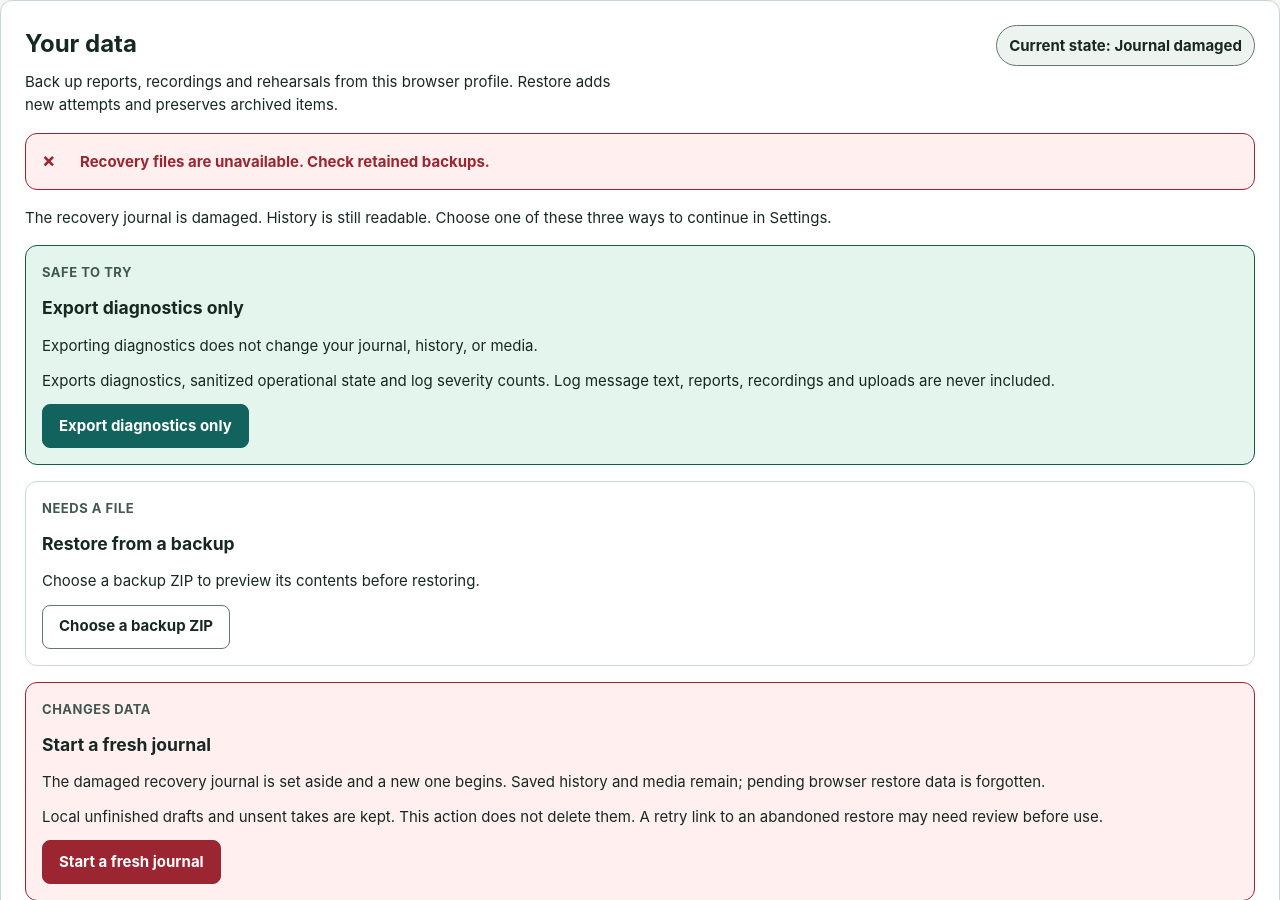
Test case: journal recovery visibility › announces a failed fresh start inside the dialog and permits retry
Click the button "Start a fresh journal".
click(131, 862)  # box [42, 840, 221, 884]
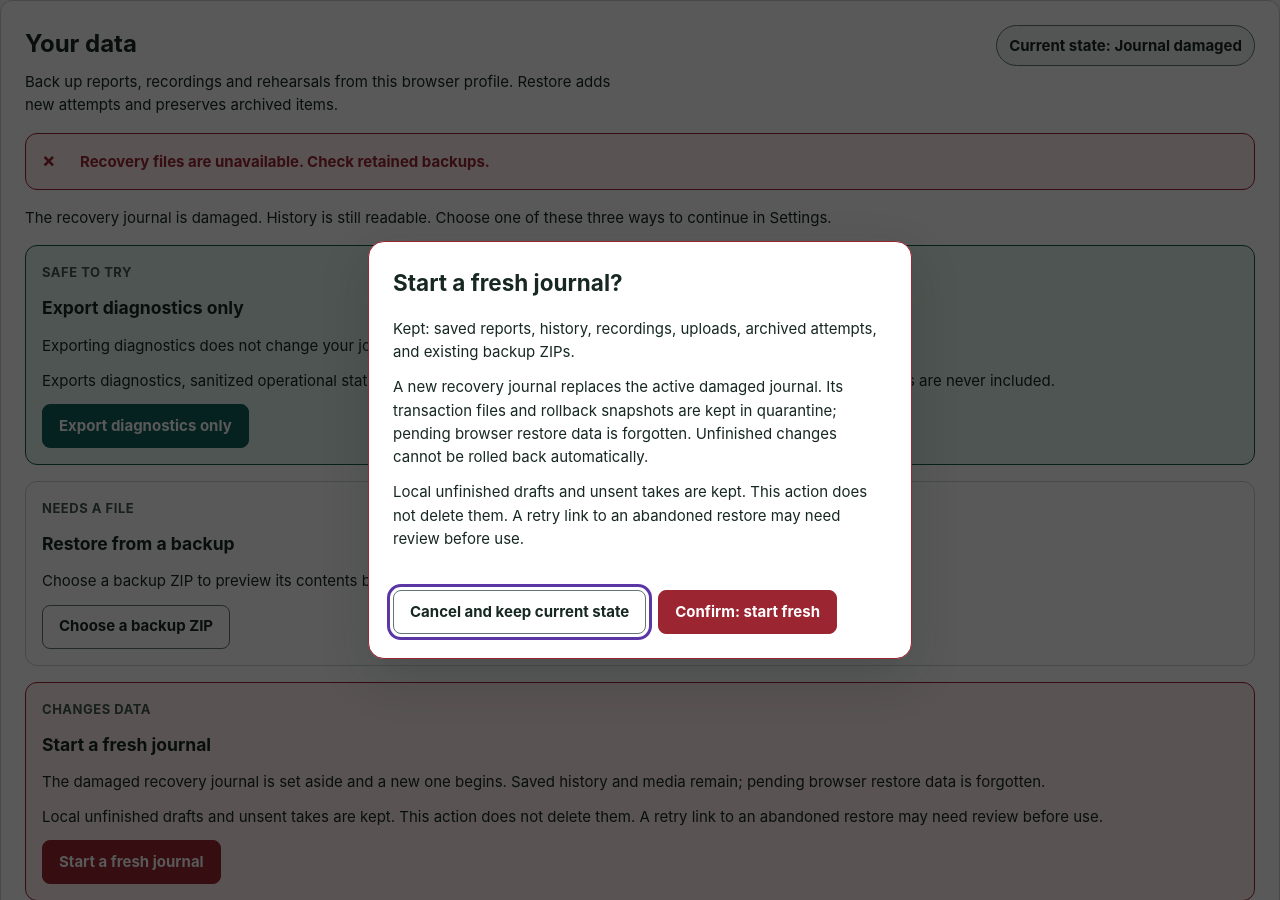
Click the button "Confirm: start fresh".
click(748, 612)  # box [658, 590, 837, 634]
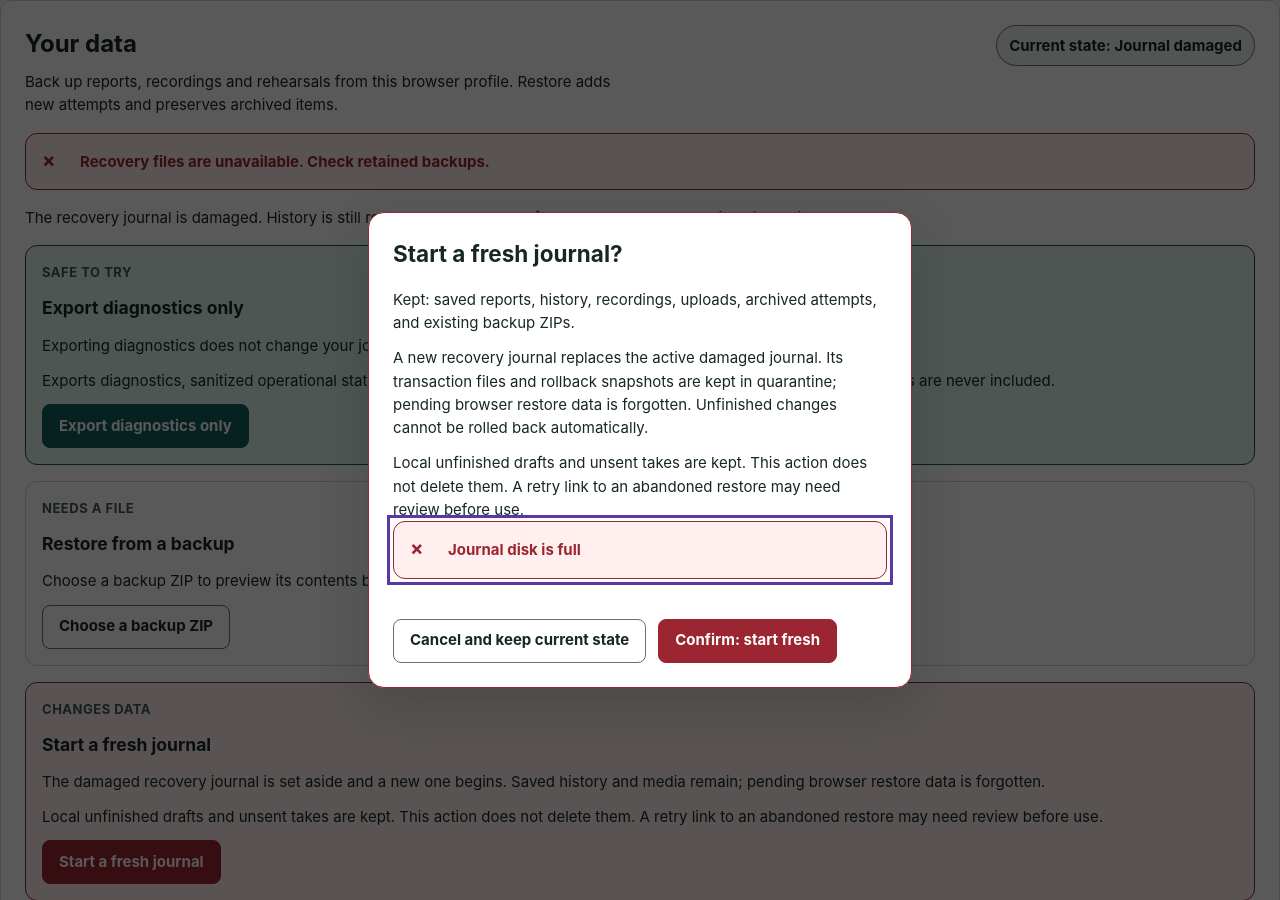
Expected: the button "Cancel and keep current state" is enabled, [393, 619, 646, 663]
Expected: the message "Journal disk is full" is shown, [393, 521, 887, 579]
Click the button "Confirm: start fresh".
click(748, 641)  # box [658, 619, 837, 663]
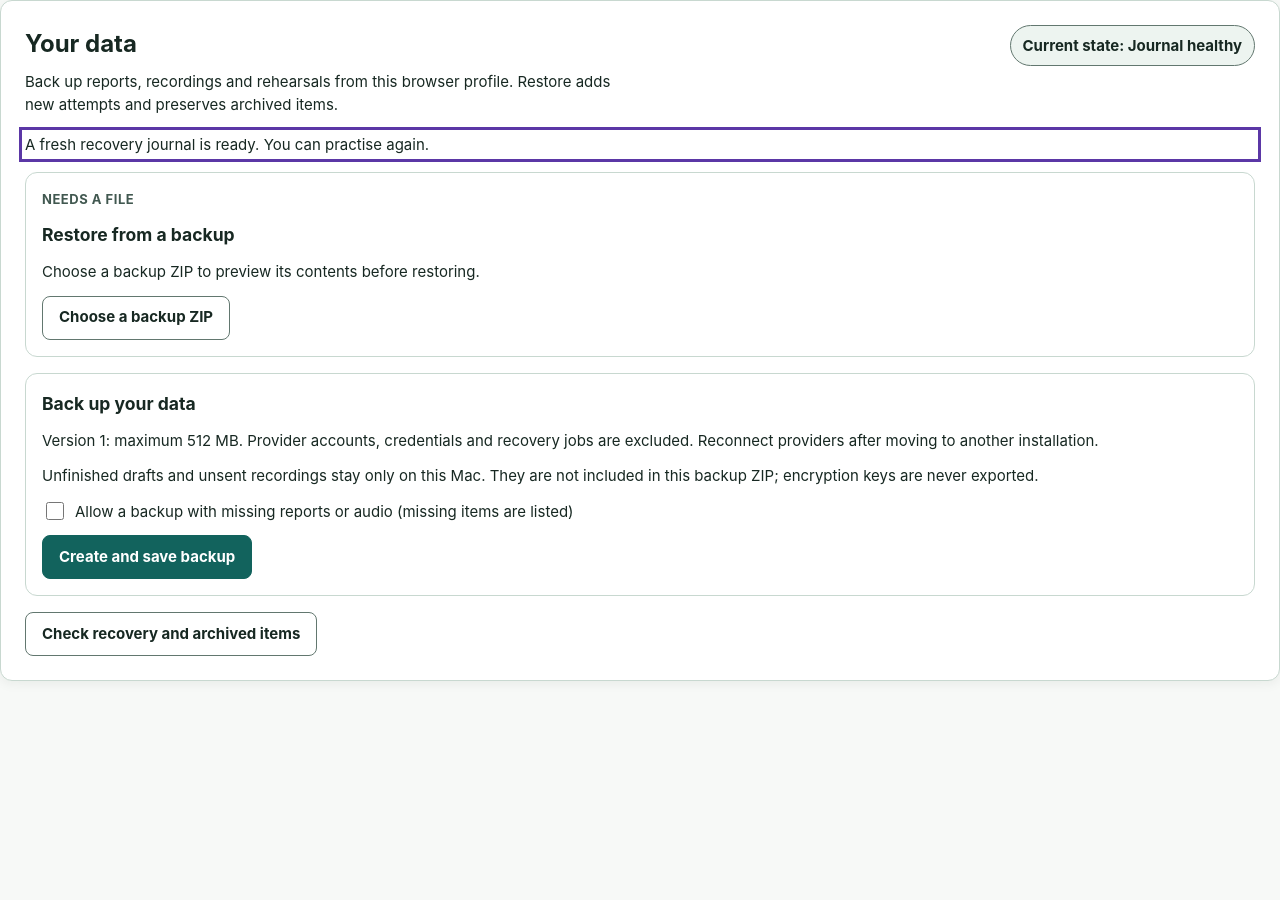
Expected: the text "A fresh recovery journal is ready. You can practise again." is shown, [25, 135, 429, 154]
